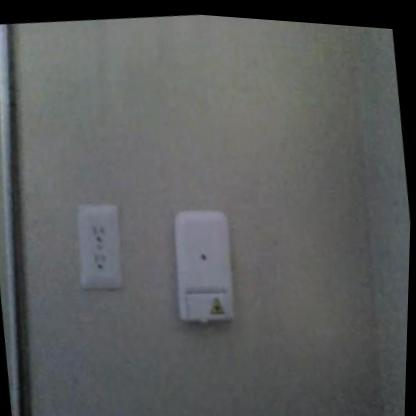OUTLET: (71, 198, 128, 292)
